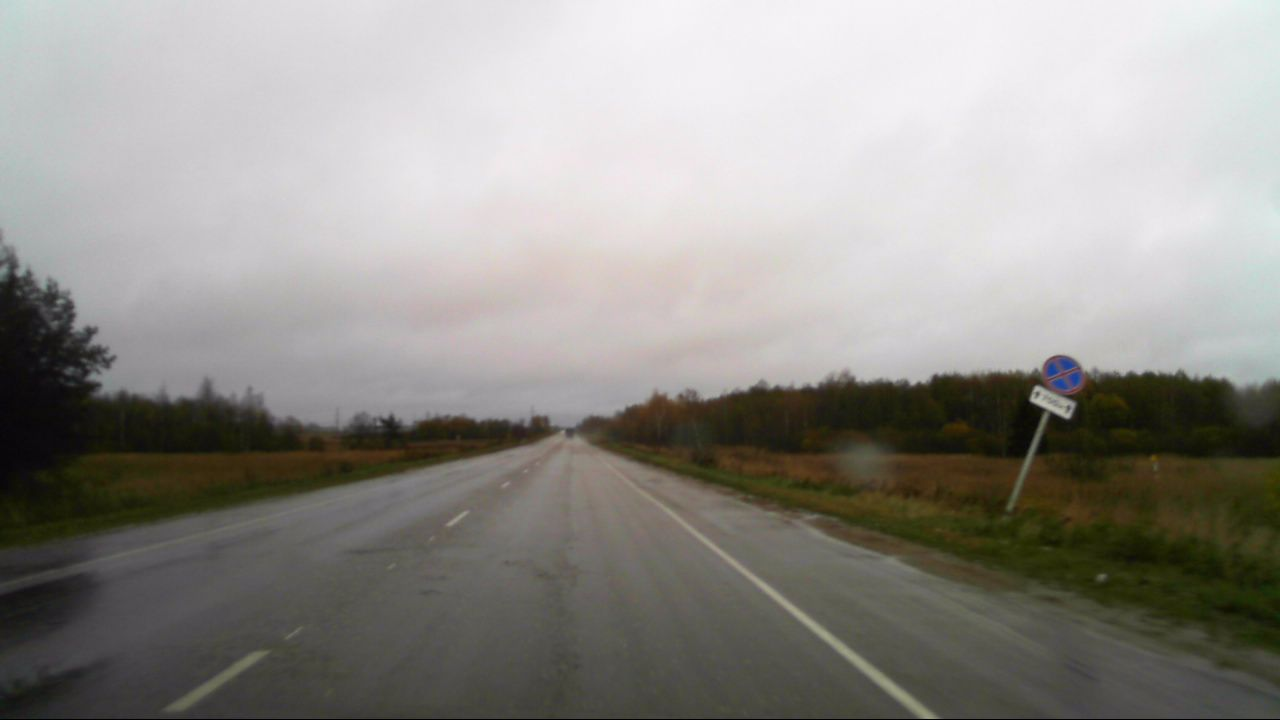No Parking: (1041, 353, 1085, 395)
